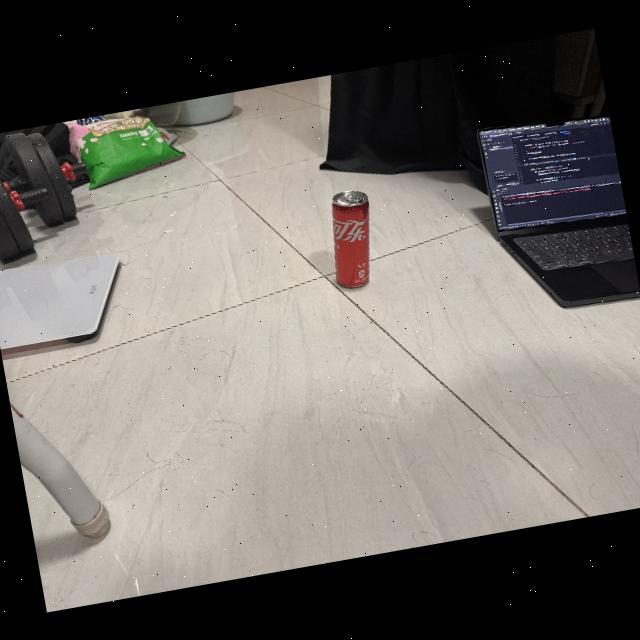Cola: (318, 182, 388, 294)
